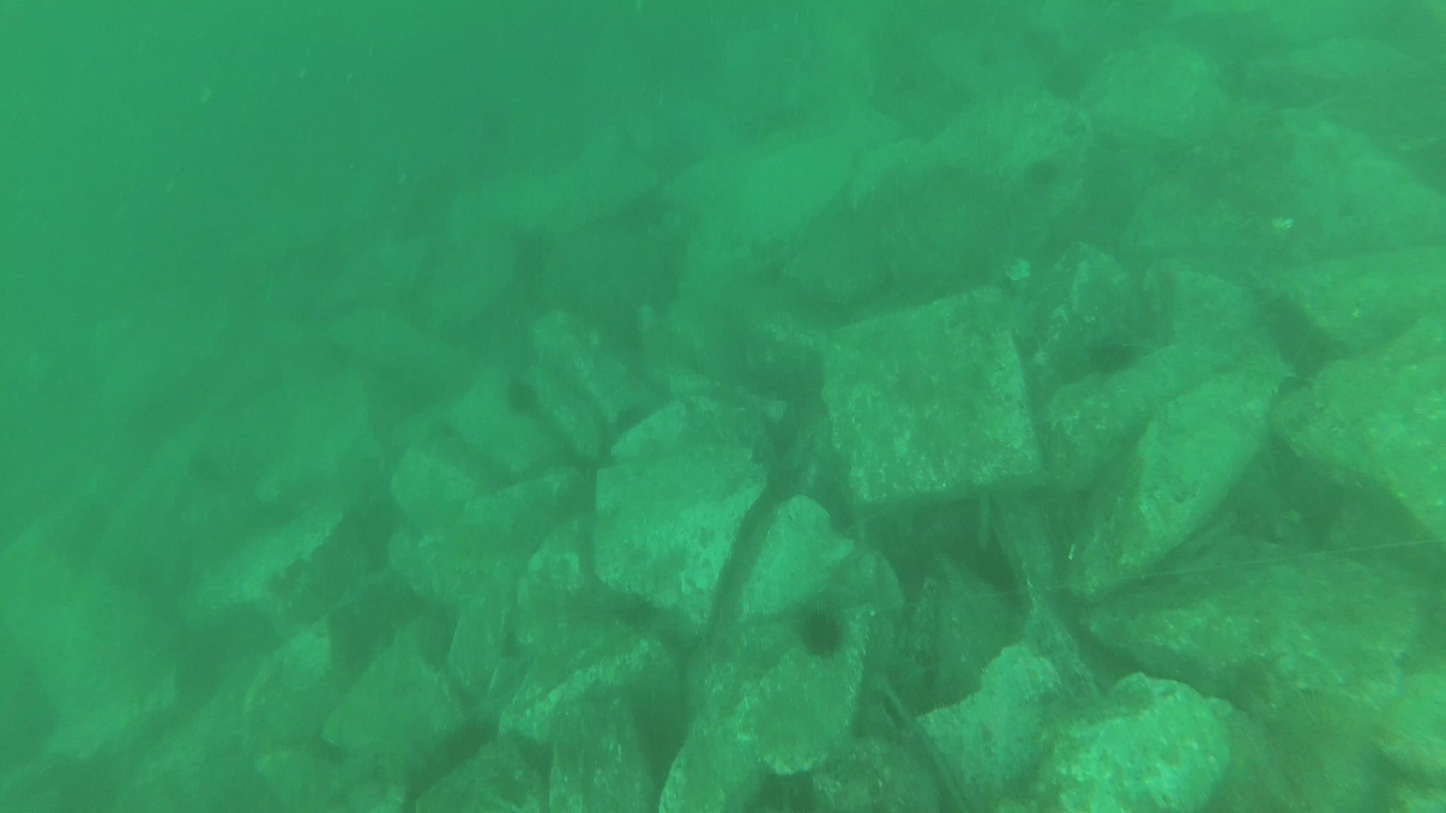starfish: (799, 609, 848, 658), (1091, 327, 1137, 375), (506, 376, 545, 420)
